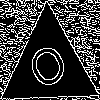O: (24, 40, 76, 100)
